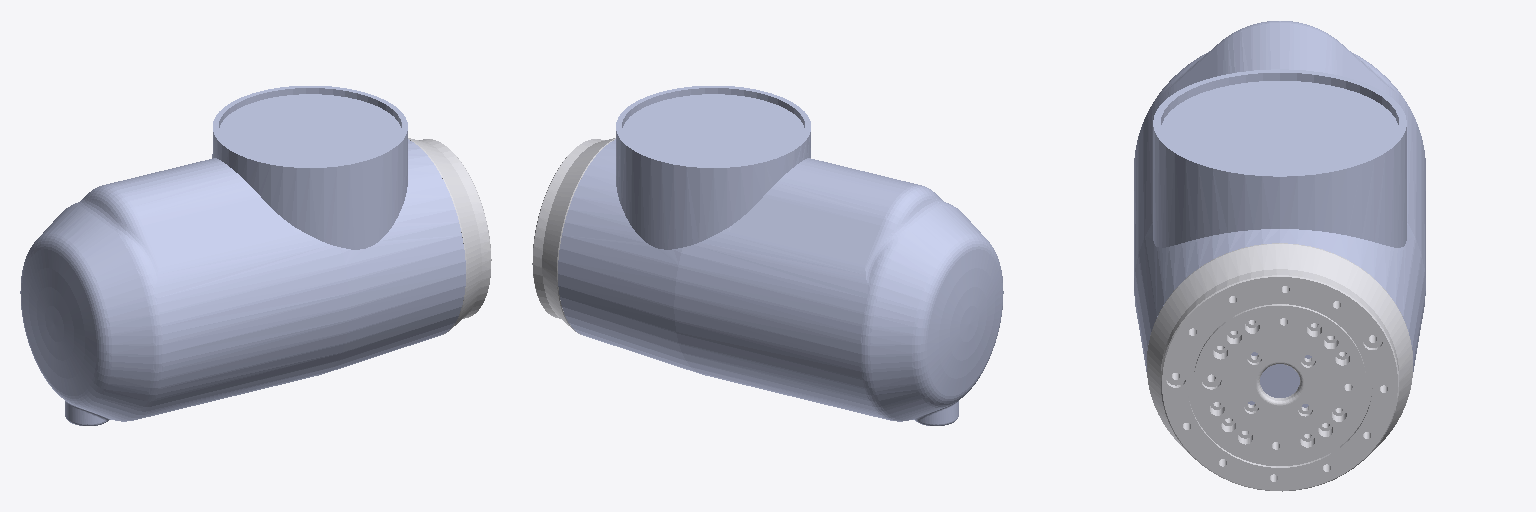
URDF robot description (awjoint1750):
<?xml version="1.0" encoding="utf-8"?>
<!-- This URDF was automatically created by SolidWorks to URDF Exporter! Originally created by [author] ([email redacted]) 
     Commit Version: 1.5.1-0-g916b5db  Build Version: 1.5.7152.31018
     For more information, please see http://wiki.ros.org/sw_urdf_exporter -->
<robot
  name="awjoint1750">
  <link
    name="rifJ17">
    <inertial>
      <origin
        xyz="-0.01362 0 -0.070101"
        rpy="0 0 0" />
      <mass
        value="2.9" />
      <inertia
        ixx="0.0054767"
        ixy="1.963E-05"
        ixz="0.00015375"
        iyy="0.008238"
        iyz="0"
        izz="0.0076285" />
    </inertial>
    <visual>
      <origin
        xyz="0 0 0"
        rpy="0 0 0" />
      <geometry>
        <mesh
          filename="package://awjoint1750/meshes/rifJ17.STL" />
      </geometry>
      <material
        name="">
        <color
          rgba="0.79216 0.81961 0.93333 1" />
      </material>
    </visual>
    <collision>
      <origin
        xyz="0 0 0"
        rpy="0 0 0" />
      <geometry>
        <mesh
          filename="package://awjoint1750/meshes/rifJ17.STL" />
      </geometry>
    </collision>
  </link>
  <link
    name="J17">
    <inertial>
      <origin
        xyz="0 0 -0.0108"
        rpy="0 0 0" />
      <mass
        value="0.35" />
      <inertia
        ixx="0.00026398"
        ixy="0"
        ixz="0"
        iyy="0.00026449"
        iyz="0"
        izz="0.00049327" />
    </inertial>
    <visual>
      <origin
        xyz="0 0 0"
        rpy="0 0 0" />
      <geometry>
        <mesh
          filename="package://awjoint1750/meshes/J17.STL" />
      </geometry>
      <material
        name="">
        <color
          rgba="0.8902 0.8902 0.91373 1" />
      </material>
    </visual>
    <collision>
      <origin
        xyz="0 0 0"
        rpy="0 0 0" />
      <geometry>
        <mesh
          filename="package://awjoint1750/meshes/J17.STL" />
      </geometry>
    </collision>
  </link>
  <joint
    name="J17"
    type="revolute">
    <origin
      xyz="0.08 0 -0.076"
      rpy="0 1.5708 0" />
    <parent
      link="rifJ17" />
    <child
      link="J17" />
    <axis
      xyz="0 0 -1" />
    <limit
      lower="-3.14"
      upper="3.14"
      effort="37"
      velocity="6.36" />
    <dynamics
      damping="1"
      friction="0.1" />
  </joint>
</robot>

--- Facts derived from the render (not from the file) ---
Views: 3 orthographic renders of the robot side by side, from view 1: azimuth 30°, elevation 25°; view 2: azimuth 150°, elevation 25°; view 3: azimuth 270°, elevation 25°.
Model awjoint1750 with 2 links and 1 joints (1 revolute), rooted at rifJ17, posed all joints at 0.
Visible links, largest first — view 1: rifJ17, J17; view 2: rifJ17, J17; view 3: rifJ17, J17.
Boxes of the visible links, left/top/right/bottom form: rifJ17: left=20, top=86, right=465, bottom=425; J17: left=408, top=138, right=491, bottom=334; rifJ17: left=558, top=86, right=1003, bottom=425; J17: left=532, top=138, right=615, bottom=334; rifJ17: left=1134, top=21, right=1425, bottom=407; J17: left=1147, top=243, right=1412, bottom=491.
Bounding box of the posed robot: 0.231 × 0.115 × 0.1335 m (x, y, z).
2 mesh visuals loaded from 2 distinct referenced files (2 binary STL).
